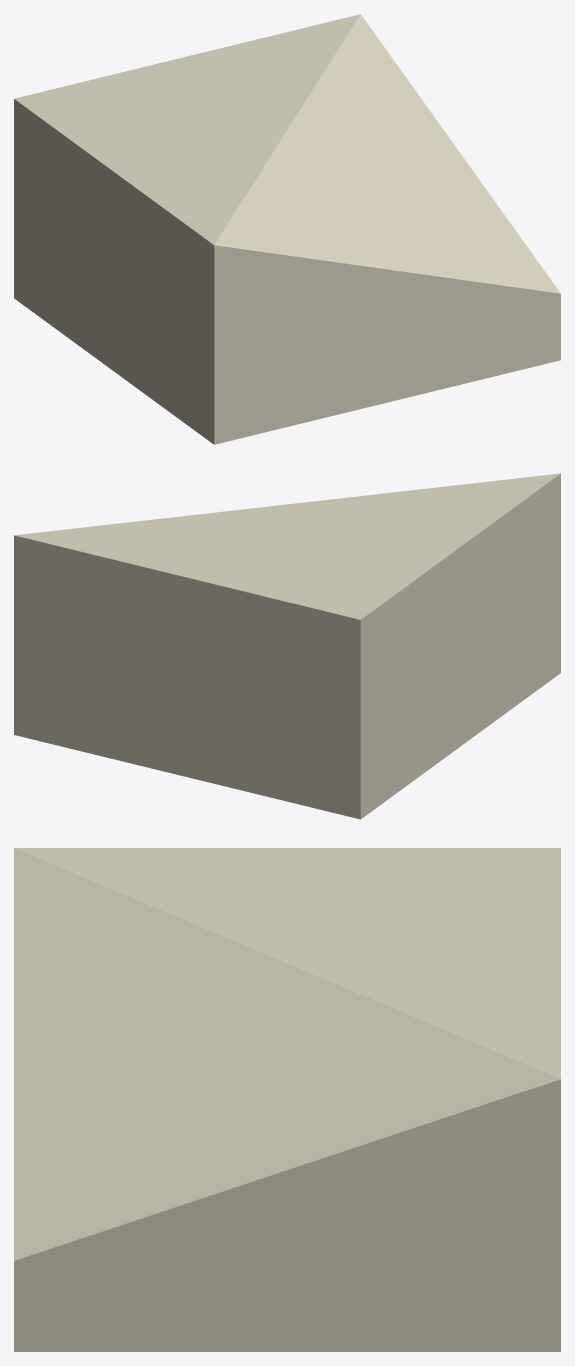
The model's file is tile116.dae.
3 views of the same model, one above another, from view 1: azimuth 30°, elevation 25°; view 2: azimuth 150°, elevation 25°; view 3: azimuth 270°, elevation 25° (orthographic). The views are drawn at different scales.
Parts seen in each view (by area): view 1: tile116; view 2: tile116; view 3: tile116.
Part boxes in pixels (<box>): tile116: <box>14,14,560,444</box>; tile116: <box>14,473,560,819</box>; tile116: <box>14,848,560,1351</box>.
Bounding box in the file's own units: 1 × 0.55 × 1.
